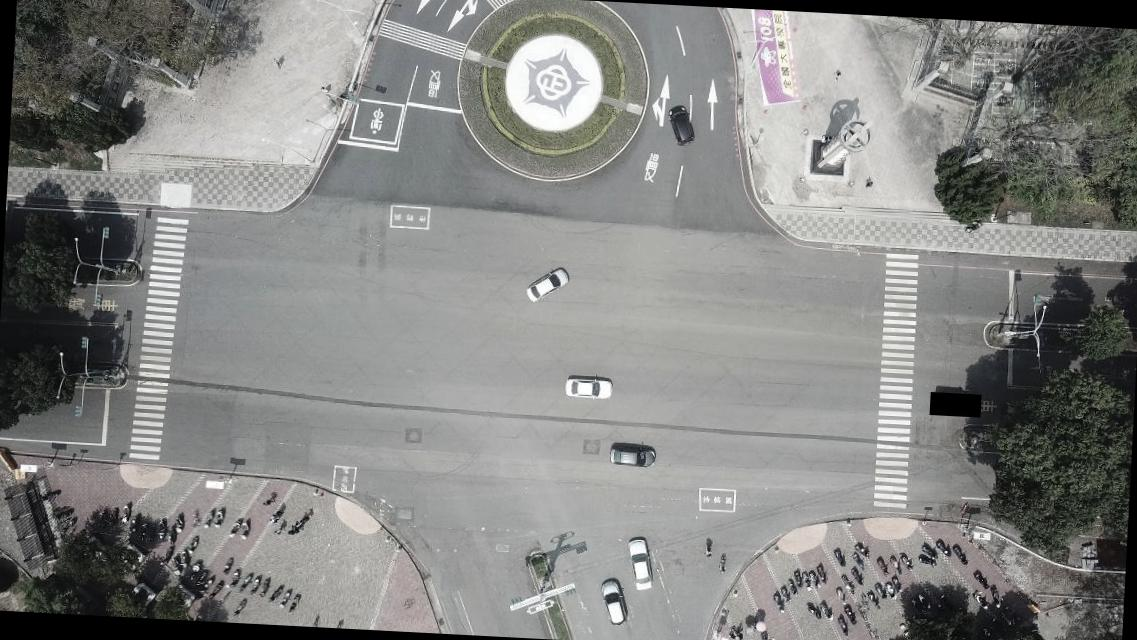vehicle: (522, 265, 571, 304), (621, 535, 655, 591), (595, 576, 629, 628), (562, 372, 613, 402), (662, 104, 696, 148), (607, 444, 656, 468)
